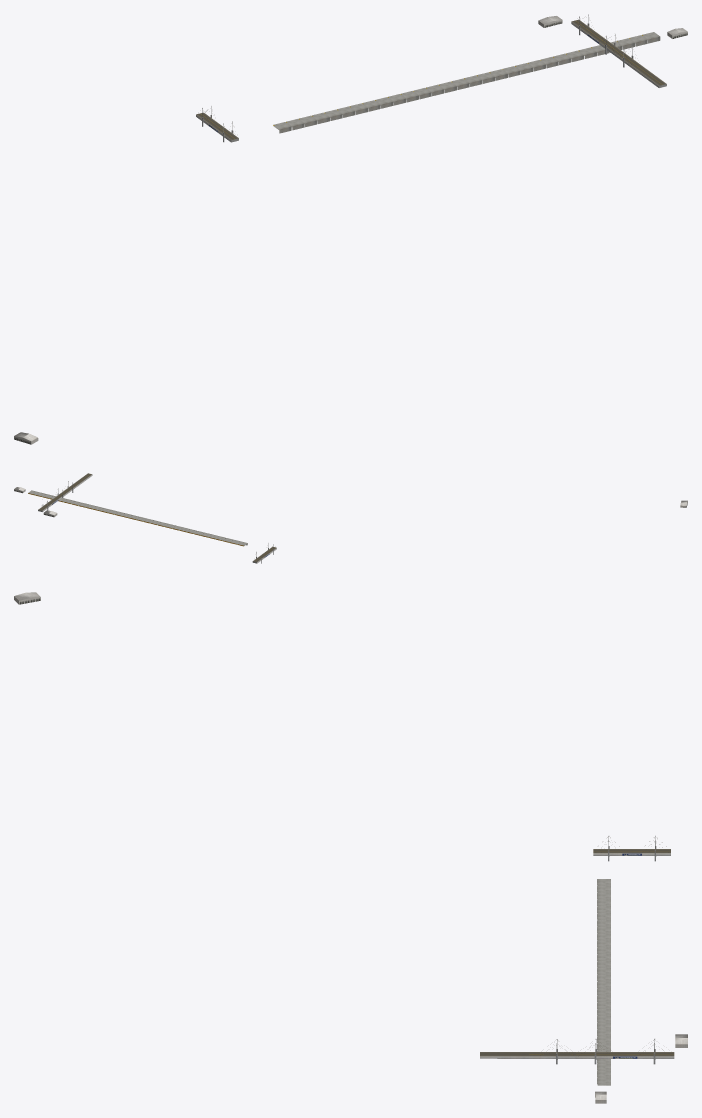
3 views of the same model, one above another, from view 1: azimuth 30°, elevation 25°; view 2: azimuth 150°, elevation 25°; view 3: azimuth 270°, elevation 25° (orthographic). The views are drawn at different scales.
Visible parts, largest first — view 1: highspeedring2_2; view 2: highspeedring2_2; view 3: highspeedring2_2.
Part boxes in pixels (x1,y1,x2,y2): highspeedring2_2: [14, 14, 687, 444]; highspeedring2_2: [14, 473, 687, 563]; highspeedring2_2: [14, 592, 687, 1103].
Bounding box in the file's own units: 1174 × 23.18 × 669.
Materials: 3 (3 with a texture image).
